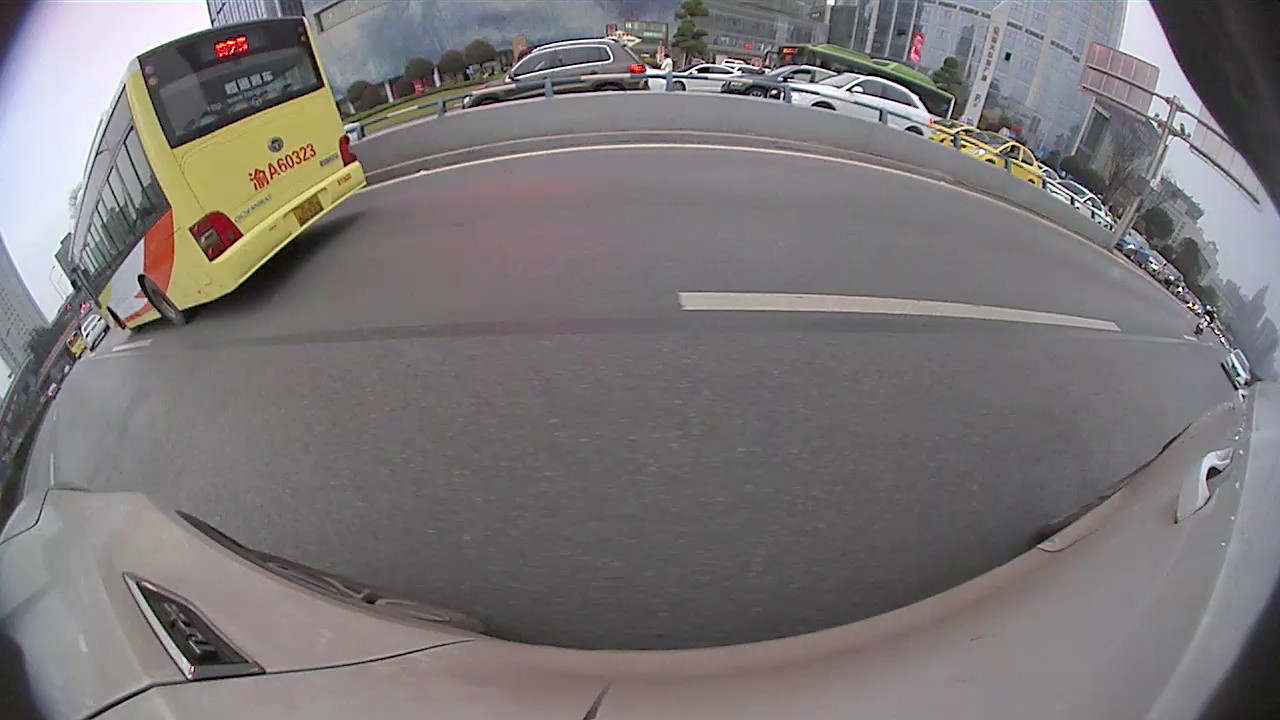bus: (65, 14, 369, 337), (761, 40, 957, 125)
car: (458, 37, 650, 112), (769, 73, 937, 143), (937, 131, 1050, 191), (720, 62, 838, 108), (1041, 178, 1108, 228), (646, 62, 743, 93), (927, 117, 983, 154), (80, 313, 111, 350)
front: (105, 306, 132, 341)
rear: (137, 275, 189, 332)
